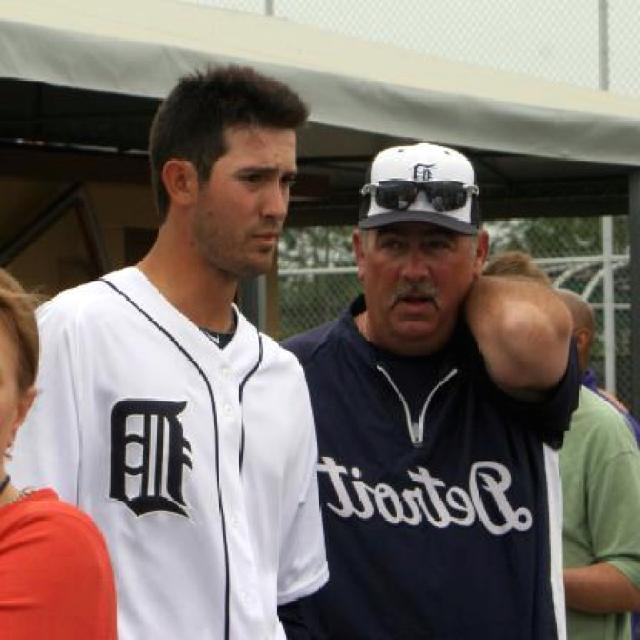face_nomask: (370, 228, 468, 324), (222, 158, 296, 256)
glasses: (358, 170, 479, 213)
head_nohelmet: (350, 148, 487, 238), (167, 58, 304, 144)
person: (26, 63, 340, 640), (239, 144, 562, 640)
